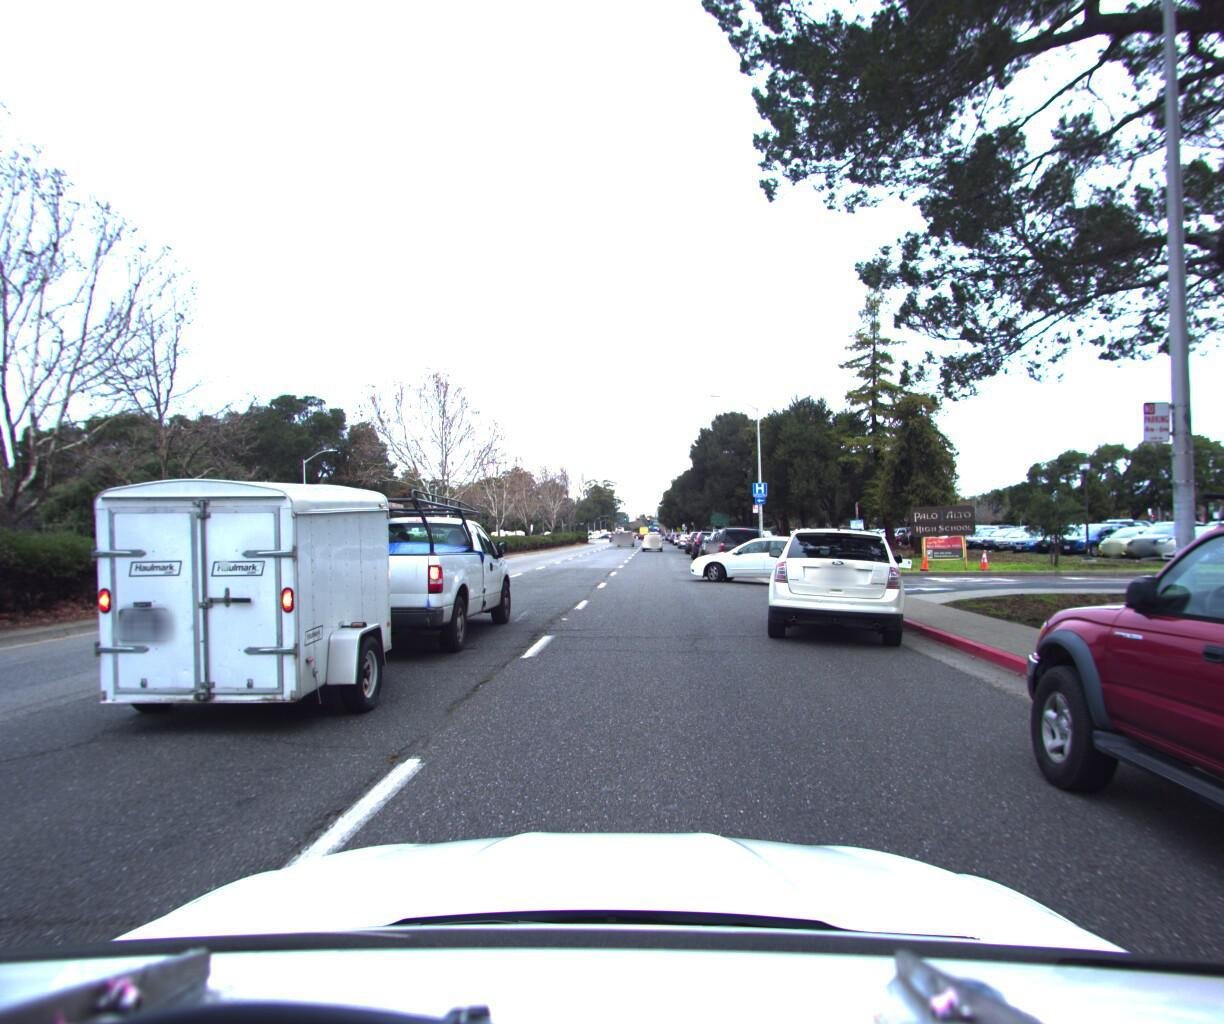car: (978, 246, 1224, 1024), (58, 454, 528, 744), (757, 513, 914, 642), (680, 524, 836, 578), (703, 516, 767, 571), (698, 521, 745, 562), (693, 527, 731, 559), (688, 522, 723, 556), (680, 522, 709, 549), (641, 527, 664, 546)
